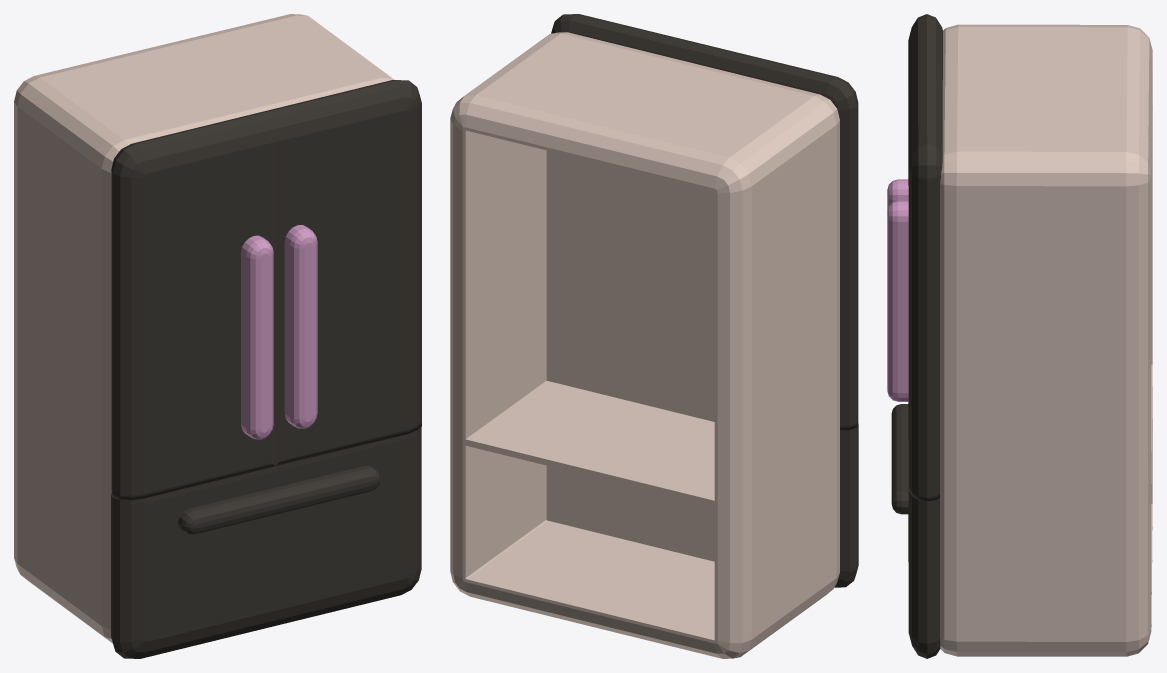
Rendered from fridge final.fbx.
The picture shows the model from 3 angles, left to right: view 1: azimuth 30°, elevation 25°; view 2: azimuth 150°, elevation 25°; view 3: azimuth 270°, elevation 25°; orthographic projection.
Parts seen in each view (by area): view 1: fridge real.003, left door, right door, BOTTOM DOOR, right door.001, left door.001, BOTTOM DOOR.001; view 2: fridge real.003, left door, right door, BOTTOM DOOR; view 3: fridge real.003, right door, BOTTOM DOOR, right door.001, left door, BOTTOM DOOR.001, left door.001.
Part boxes in pixels (left/top/right/bottom): fridge real.003: left=14, top=14, right=394, bottom=643; left door: left=111, top=112, right=275, bottom=500; right door: left=262, top=80, right=421, bottom=466; BOTTOM DOOR: left=111, top=427, right=421, bottom=658; right door.001: left=284, top=225, right=317, bottom=428; left door.001: left=241, top=235, right=273, bottom=439; BOTTOM DOOR.001: left=178, top=465, right=380, bottom=534; fridge real.003: left=450, top=32, right=839, bottom=658; left door: left=696, top=45, right=858, bottom=430; right door: left=551, top=14, right=708, bottom=63; BOTTOM DOOR: left=834, top=424, right=858, bottom=587; fridge real.003: left=940, top=24, right=1152, bottom=656; right door: left=908, top=80, right=942, bottom=501; BOTTOM DOOR: left=908, top=414, right=940, bottom=658; right door.001: left=887, top=200, right=908, bottom=401; left door: left=908, top=14, right=942, bottom=413; BOTTOM DOOR.001: left=891, top=404, right=908, bottom=514; left door.001: left=887, top=179, right=908, bottom=210.
Bounding box in the file's own units: 494 × 789 × 370.
